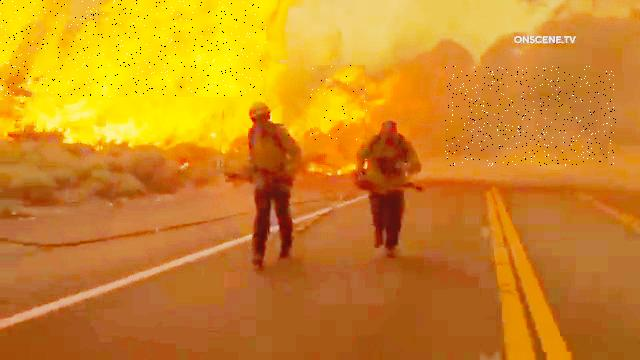fire: (0, 0, 266, 97), (311, 66, 368, 141)
smoke: (446, 67, 617, 167)
